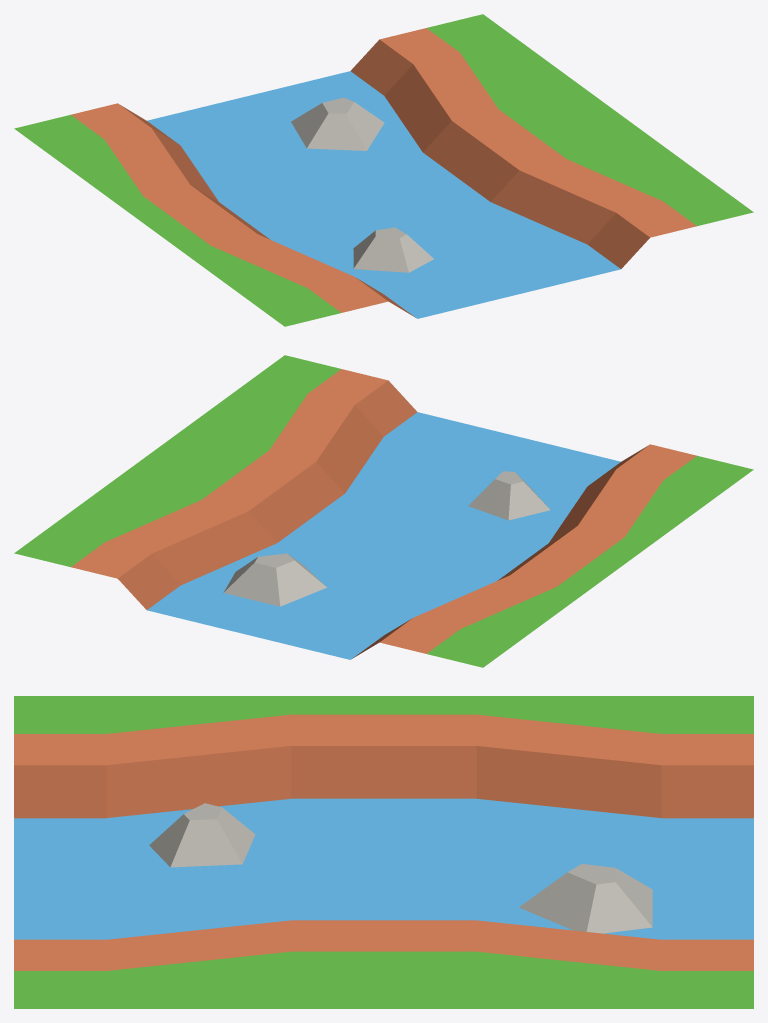
File: ground_riverRocks.glb
3 views of the same model, one above another, from view 1: azimuth 30°, elevation 25°; view 2: azimuth 150°, elevation 25°; view 3: azimuth 270°, elevation 25° (orthographic). The views are drawn at different scales.
Parts seen in each view (by area): view 1: ground_riverRocks; view 2: ground_riverRocks; view 3: ground_riverRocks.
Part boxes in pixels (left/top/right/bottom): ground_riverRocks: left=14, top=14, right=753, bottom=326; ground_riverRocks: left=14, top=355, right=753, bottom=667; ground_riverRocks: left=14, top=696, right=753, bottom=1008.
Bounding box in the file's own units: 1 × 0.05 × 1.
